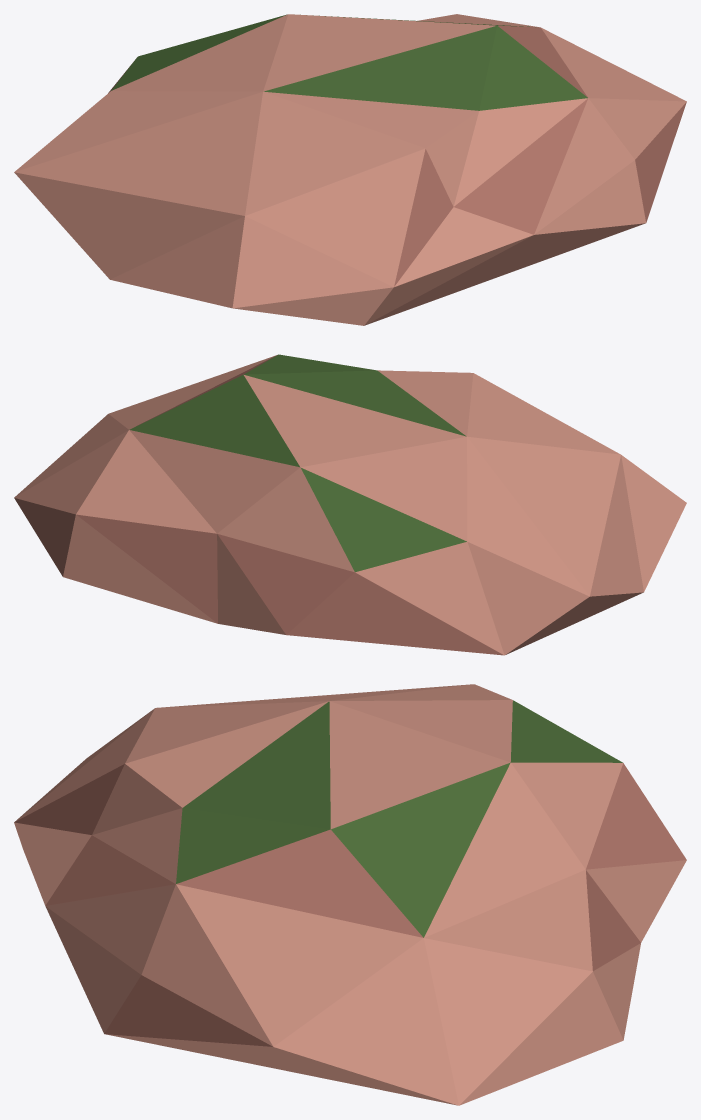
The model's file is hall_1.glb.
The picture shows the model from 3 angles, top to bottom: view 1: azimuth 30°, elevation 25°; view 2: azimuth 150°, elevation 25°; view 3: azimuth 270°, elevation 25°; orthographic projection. The views are drawn at different scales.
Parts seen in each view (by area): view 1: hall_1; view 2: hall_1; view 3: hall_1.
Part boxes in pixels (x1=…): hall_1: x1=14, y1=14, x2=686, y2=325; hall_1: x1=14, y1=354, x2=686, y2=655; hall_1: x1=14, y1=684, x2=686, y2=1105.
Size of the model in its own units: 3.33 by 0.7447 by 2.62.
